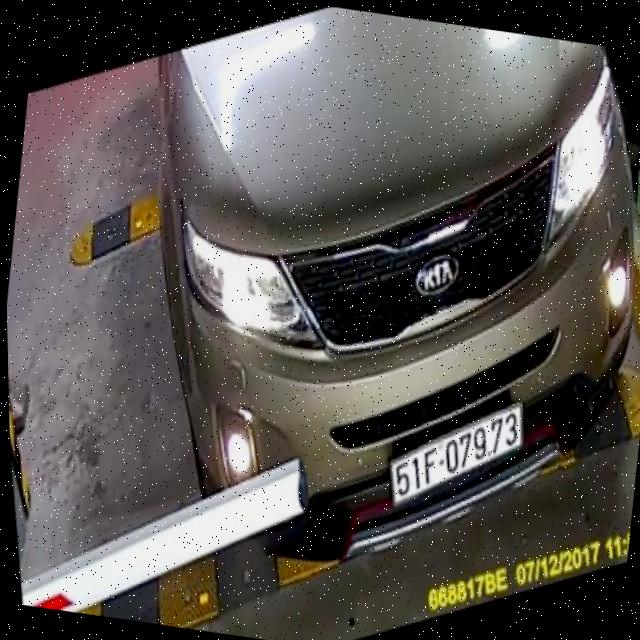car: (139, 7, 638, 575)
plate: (379, 389, 530, 516)
